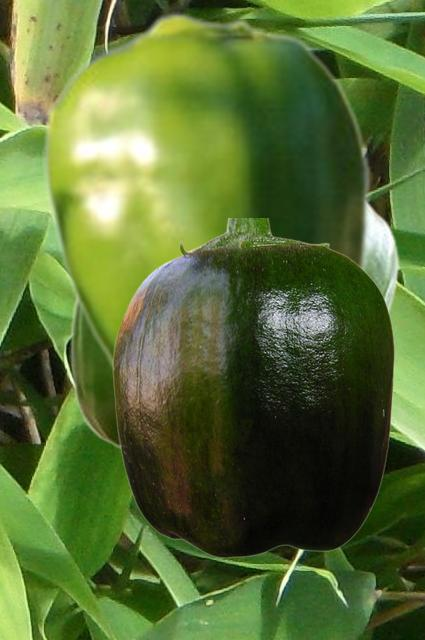bell_pepper: (42, 11, 371, 377), (112, 218, 394, 557), (69, 202, 398, 452)
